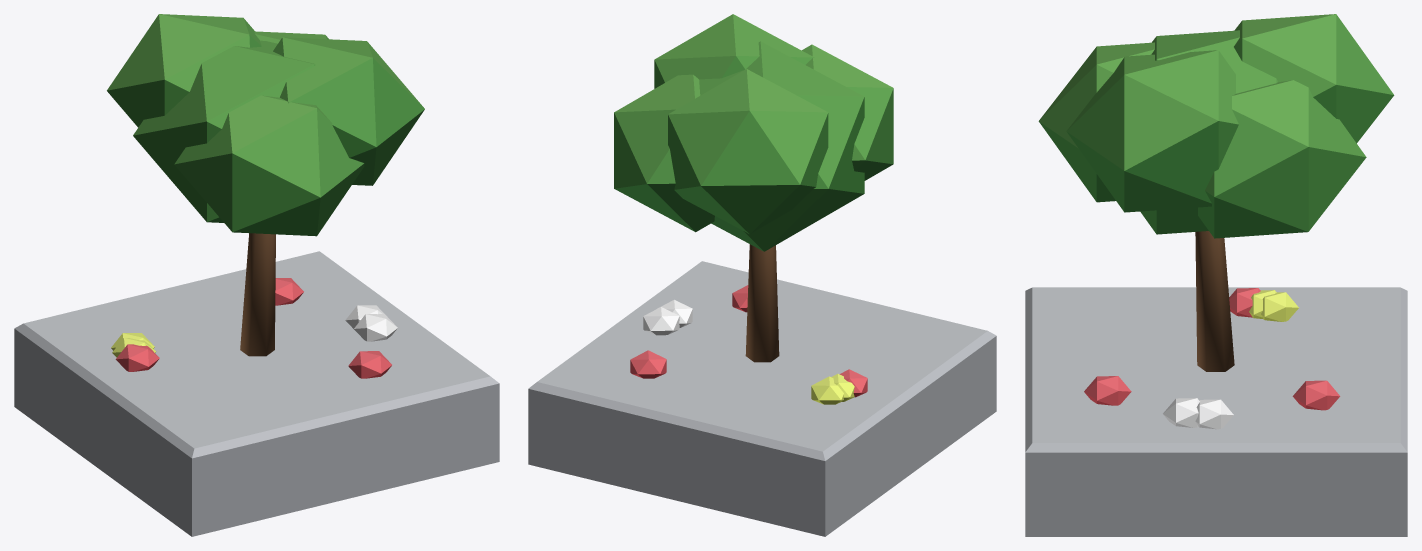
File: PlanterTree_1.glb
3 renders of one model, left to right at view 1: azimuth 30°, elevation 25°; view 2: azimuth 150°, elevation 25°; view 3: azimuth 270°, elevation 25°, orthographic. The views are drawn at different scales.
Parts seen in each view (by area): view 1: PlanterTree_1; view 2: PlanterTree_1; view 3: PlanterTree_1.
Part boxes in pixels (left/top/right/bottom): PlanterTree_1: left=14, top=14, right=499, bottom=536; PlanterTree_1: left=528, top=14, right=996, bottom=536; PlanterTree_1: left=1025, top=14, right=1407, bottom=536.
Bounding box in the file's own units: 8 × 9.69 × 8.
Materials: 1 (1 with a texture image).
